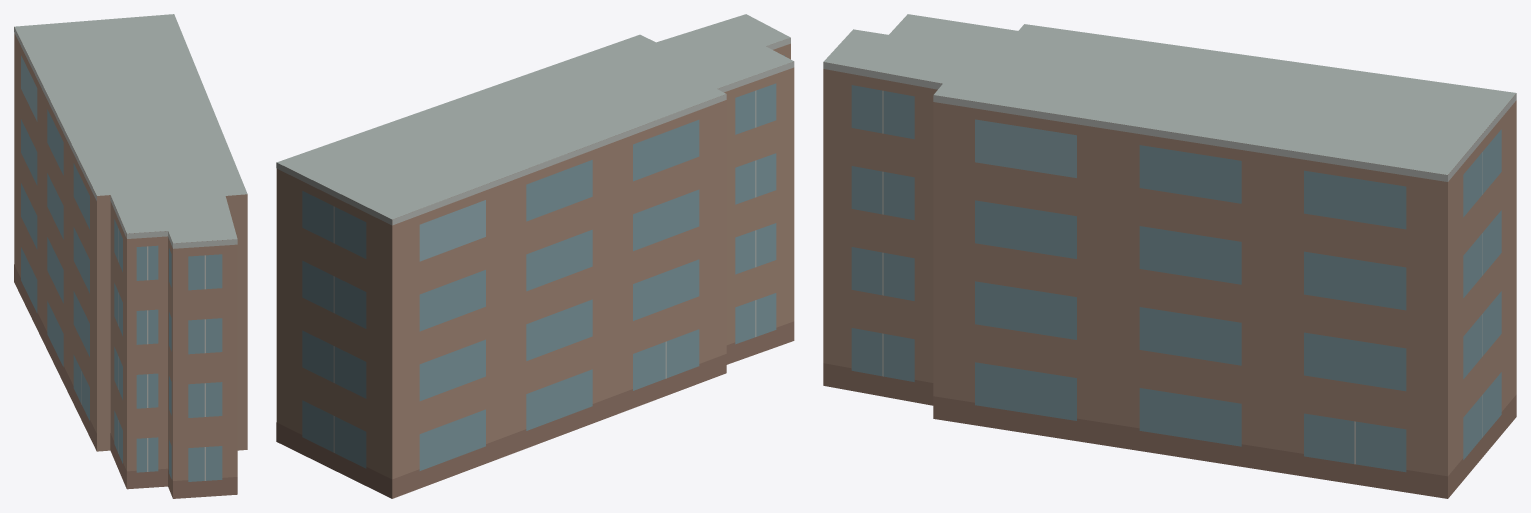
The model's file is survey-upis-32715267.glb.
3 views of the same model, side by side, from view 1: azimuth 30°, elevation 25°; view 2: azimuth 150°, elevation 25°; view 3: azimuth 270°, elevation 25° (orthographic). The views are drawn at different scales.
Parts seen in each view (by area): view 1: survey-upis-32715267.tmp; view 2: survey-upis-32715267.tmp; view 3: survey-upis-32715267.tmp.
Boxes of the visible parts, x1,y1,x2,y2 form: survey-upis-32715267.tmp: (14,14,247,498); survey-upis-32715267.tmp: (276,14,794,498); survey-upis-32715267.tmp: (823,14,1516,498).
Bounding box in the file's own units: 12.06 × 11.3 × 21.94.
